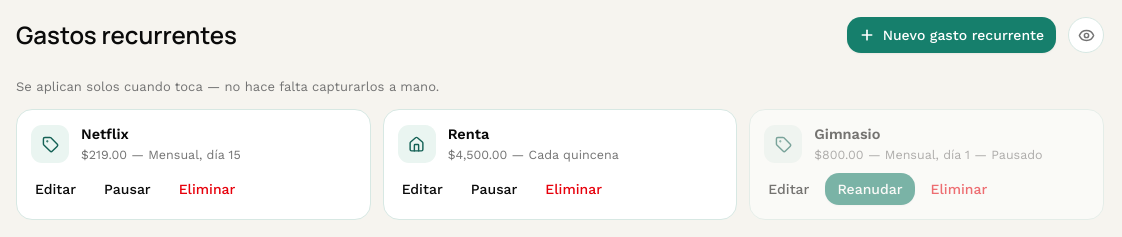
Scenario: Recurrentes — la lista › el ojito enmascara los montos
The image size is (1122, 237).
Expected: the text "Netflix" is shown, [81,126,129,142]
What coordinates should you click on to do the following:
click the button named "Ocultar montos"
I would click on:
 (1086, 35)
Its box is [1068,17,1104,53].
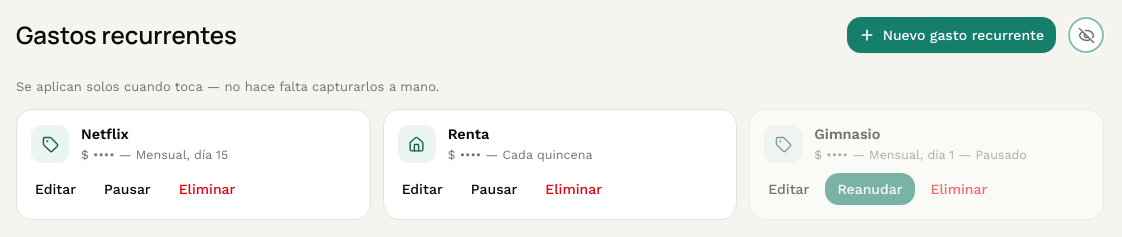
Result: the text "$ •••• — Mensual, día 15" is shown at [81,147,228,162]
